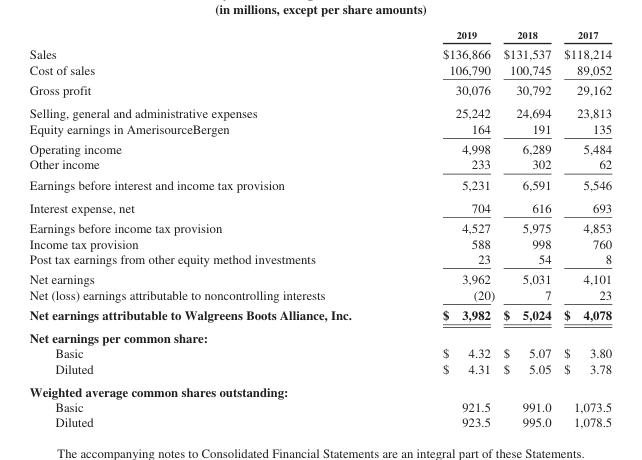table: (28, 28, 611, 429)
table column: (28, 28, 396, 429), (396, 28, 498, 429), (498, 28, 556, 429), (556, 28, 611, 429)
table column header: (28, 28, 611, 43)
table projected row header: (28, 325, 611, 345), (28, 379, 611, 398)
table row: (28, 79, 611, 101), (28, 195, 611, 217), (28, 174, 611, 195), (28, 304, 611, 325), (28, 325, 611, 345), (28, 101, 611, 120), (28, 360, 611, 379), (28, 379, 611, 398), (28, 43, 611, 61), (28, 61, 611, 79), (28, 120, 611, 138), (28, 138, 611, 156), (28, 156, 611, 174), (28, 217, 611, 235), (28, 250, 611, 268), (28, 268, 611, 286), (28, 286, 611, 304), (28, 398, 611, 414), (28, 28, 611, 43), (28, 235, 611, 250), (28, 345, 611, 360), (28, 414, 611, 429)
